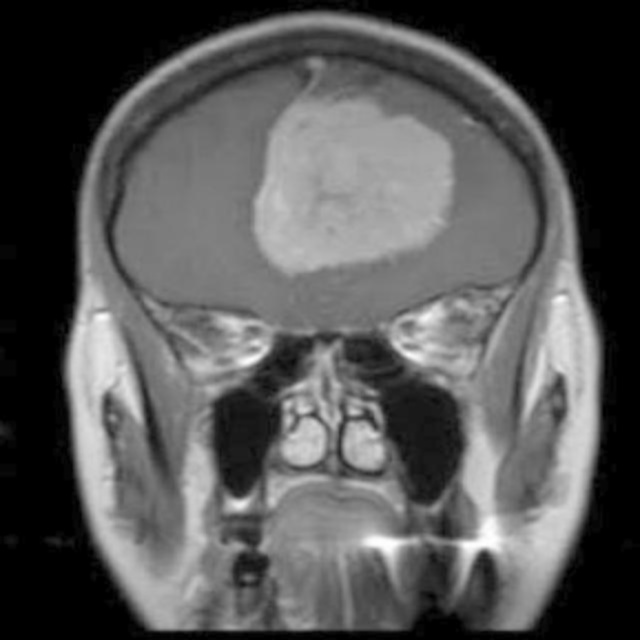meningioma tumor: (237, 89, 483, 282)
